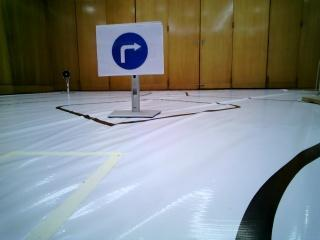right: (100, 25, 164, 73)
